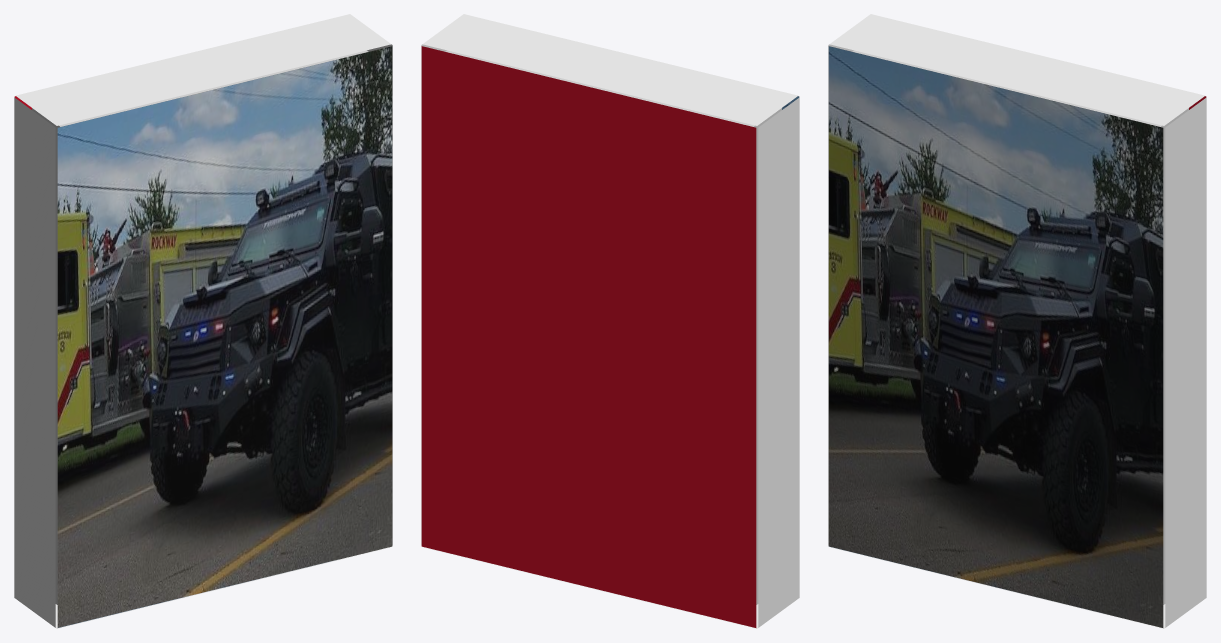
File: livre_swat.glb
The picture shows the model from 3 angles, left to right: view 1: azimuth 30°, elevation 25°; view 2: azimuth 150°, elevation 25°; view 3: azimuth 330°, elevation 25°; orthographic projection.
Visible parts, largest first — view 1: Livre_Couverture_Avant, Livre_Dos, Tranche_Haut, Livre_Pages, Tranche_Droite; view 2: Livre_Couverture_Arriere, Livre_Dos, Tranche_Haut, Livre_Pages, Tranche_Droite; view 3: Livre_Couverture_Avant, Tranche_Droite, Tranche_Haut, Livre_Pages, Livre_Dos.
Part boxes in pixels (x1,y1,x2,y2): Livre_Couverture_Avant: (57,46,392,627); Livre_Dos: (14,97,55,627); Tranche_Haut: (16,14,390,125); Livre_Pages: (32,50,368,604); Tranche_Droite: (367,44,392,545); Livre_Couverture_Arriere: (421,46,756,627); Livre_Dos: (758,97,799,627); Tranche_Haut: (423,14,797,125); Livre_Pages: (445,50,781,604); Tranche_Droite: (421,44,446,545); Livre_Couverture_Avant: (828,46,1163,627); Tranche_Droite: (1165,97,1206,627); Tranche_Haut: (830,14,1204,125); Livre_Pages: (852,50,1188,604); Livre_Dos: (828,44,853,545).
Bounding box in the file's own units: 1.41 × 2.01 × 0.31.
7 materials, 1 textured.
